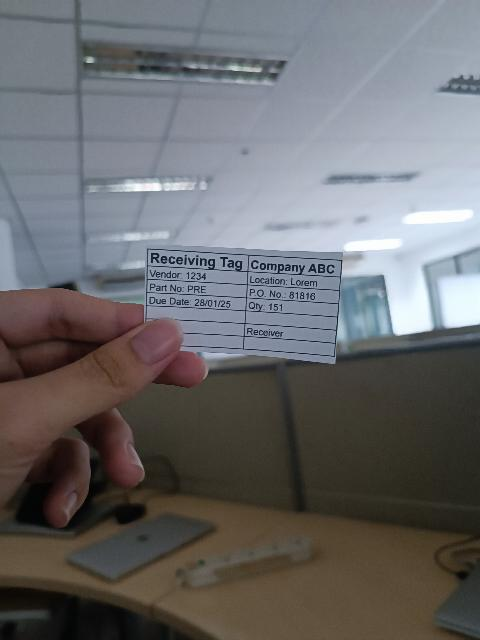PO no: (246, 284, 341, 305)
part no: (147, 280, 248, 297)
qty: (245, 297, 338, 318)
tags: (144, 245, 344, 365)
